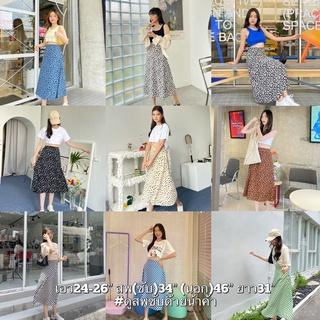skirt: (247, 47, 292, 103), (244, 149, 282, 208), (33, 44, 70, 104), (143, 146, 177, 210), (139, 47, 175, 100), (267, 267, 300, 320), (31, 148, 65, 198), (37, 258, 61, 309)
